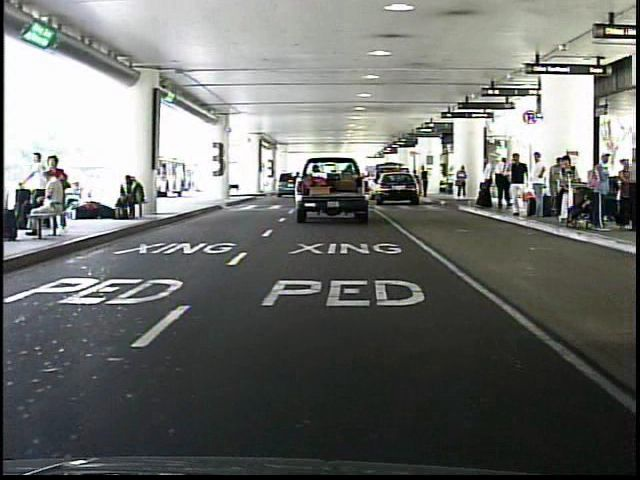person: (529, 149, 552, 223), (506, 151, 529, 222), (476, 152, 498, 214), (454, 163, 471, 203), (420, 164, 432, 200), (413, 168, 422, 200)
